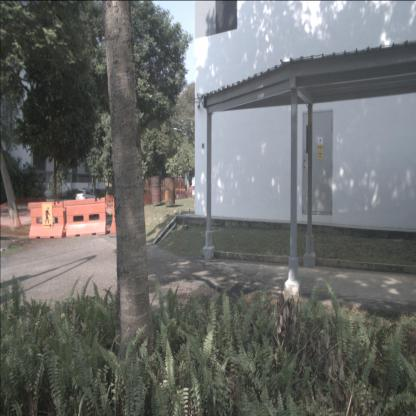movable_object-barrier: (63, 198, 107, 238), (28, 202, 66, 238)
vehicle-car: (75, 189, 97, 203)
